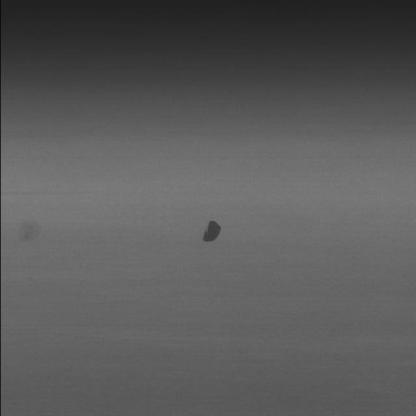oil_spot: (195, 207, 238, 244)
